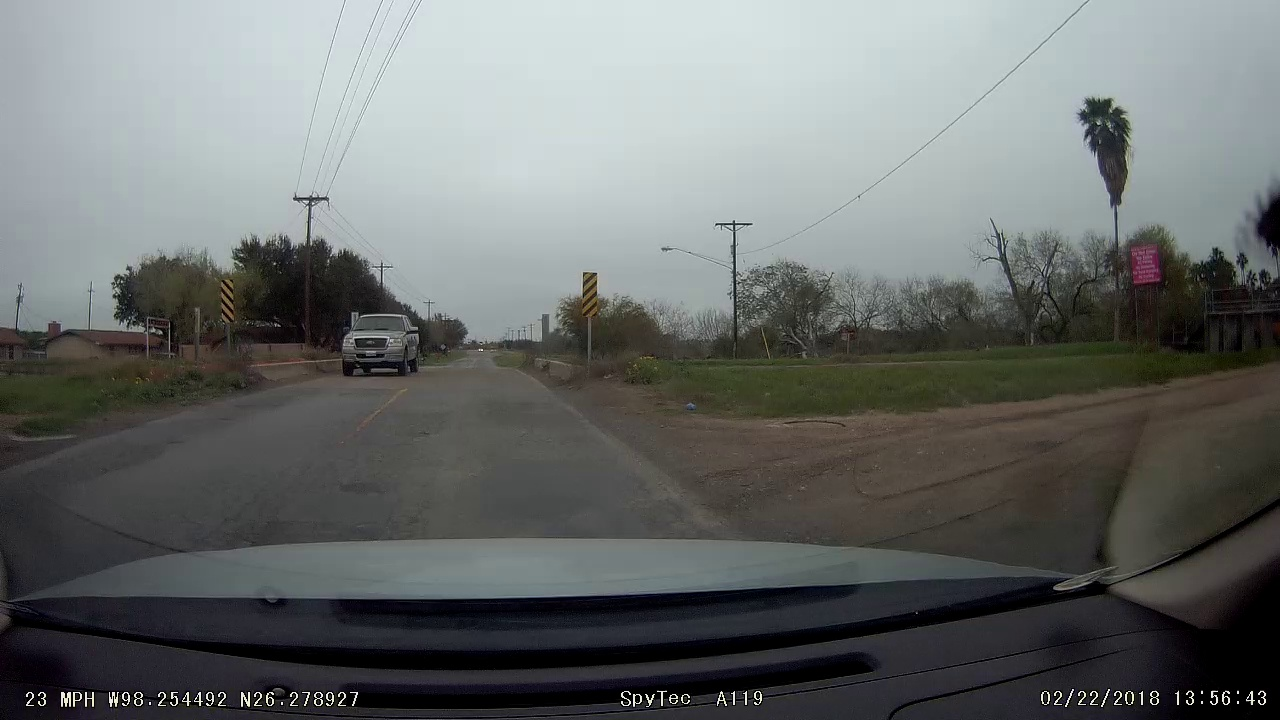blurredLine: (264, 398, 364, 556)
pothole: (23, 417, 175, 500)
